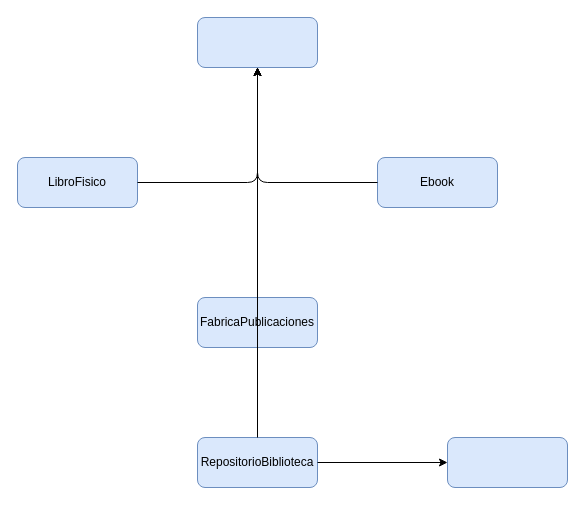
Some shapes in this 585 by 505 pixel diagram are drawn without their labels. The centre of each missing label's shape, as x and y in pixels:
"Lector" belongs at pixel 507 462.
"Publicacion" belongs at pixel 257 42.
